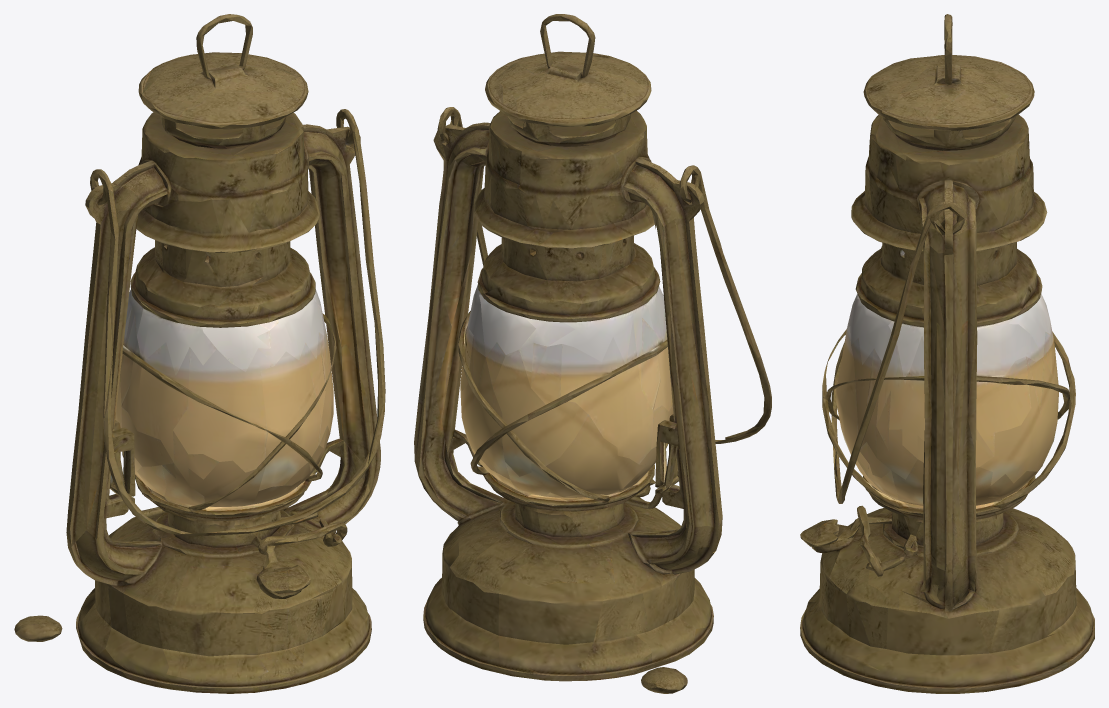
Rendered from lantern.glb.
The picture shows the model from 3 angles, left to right: view 1: azimuth 30°, elevation 25°; view 2: azimuth 150°, elevation 25°; view 3: azimuth 270°, elevation 25°; orthographic projection.
Parts seen in each view (by area): view 1: Mesh_0; view 2: Mesh_0; view 3: Mesh_0.
Part boxes in pixels (<box>): Mesh_0: <box>14,14,385,693</box>; Mesh_0: <box>414,14,771,693</box>; Mesh_0: <box>800,14,1094,693</box>.
Size of the model in its own units: 1.03 by 1.9 by 0.8233.
1 material, 1 textured.
